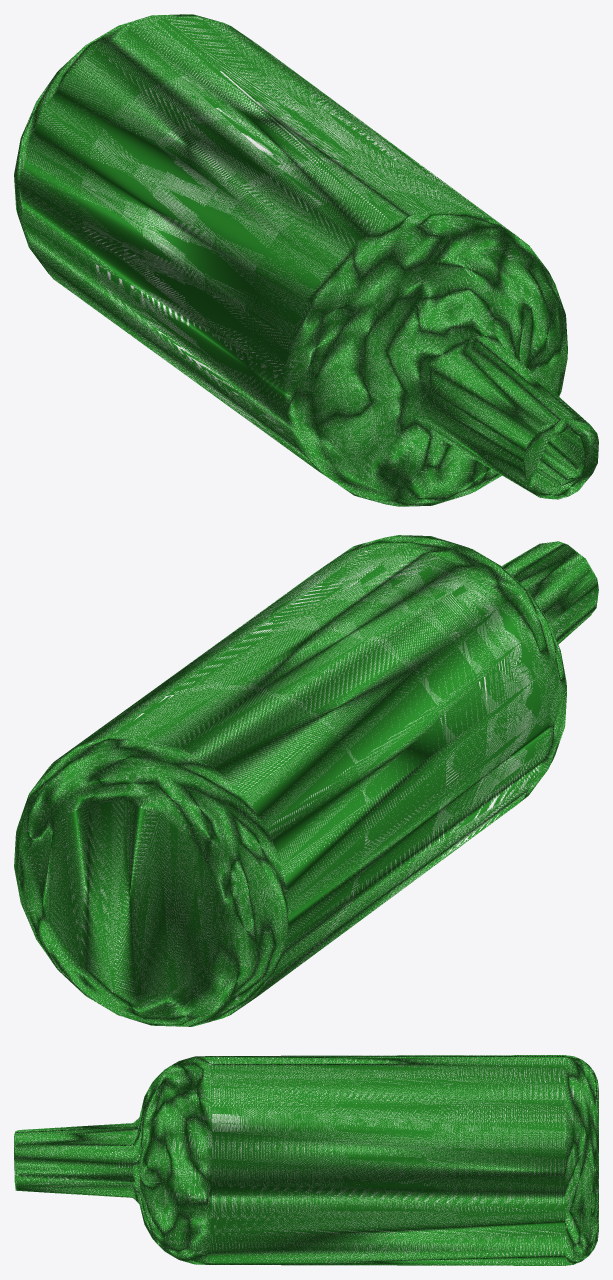
Rendered from model_align.obj.
3 views of the same model, one above another, from view 1: azimuth 30°, elevation 25°; view 2: azimuth 150°, elevation 25°; view 3: azimuth 270°, elevation 25° (orthographic). The views are drawn at different scales.
Size of the model in its own units: 0.0856 by 0.0856 by 0.2379.
